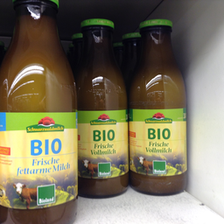milk: (1, 1, 80, 224), (128, 18, 191, 201), (78, 18, 131, 199)
